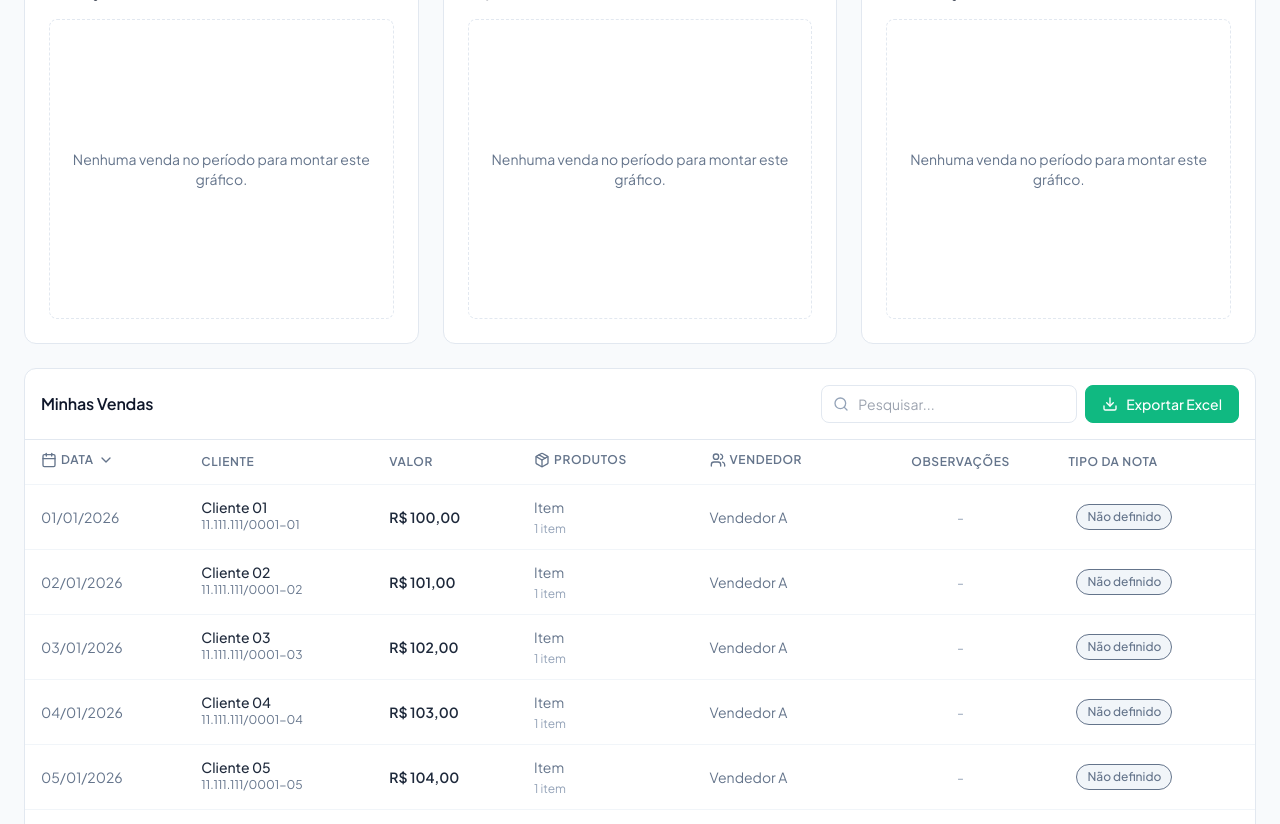
paginacao em Vendedores › com filtro que nao casa nada, a tabela diz que esta vazia
(page scrolled)
Type "zzzzz-nao-existe" into the field with placeholder "Pesquisar...".
click(949, 404); type("zzzzz-nao-existe")  # box [821,385,1077,423]
(page scrolled)
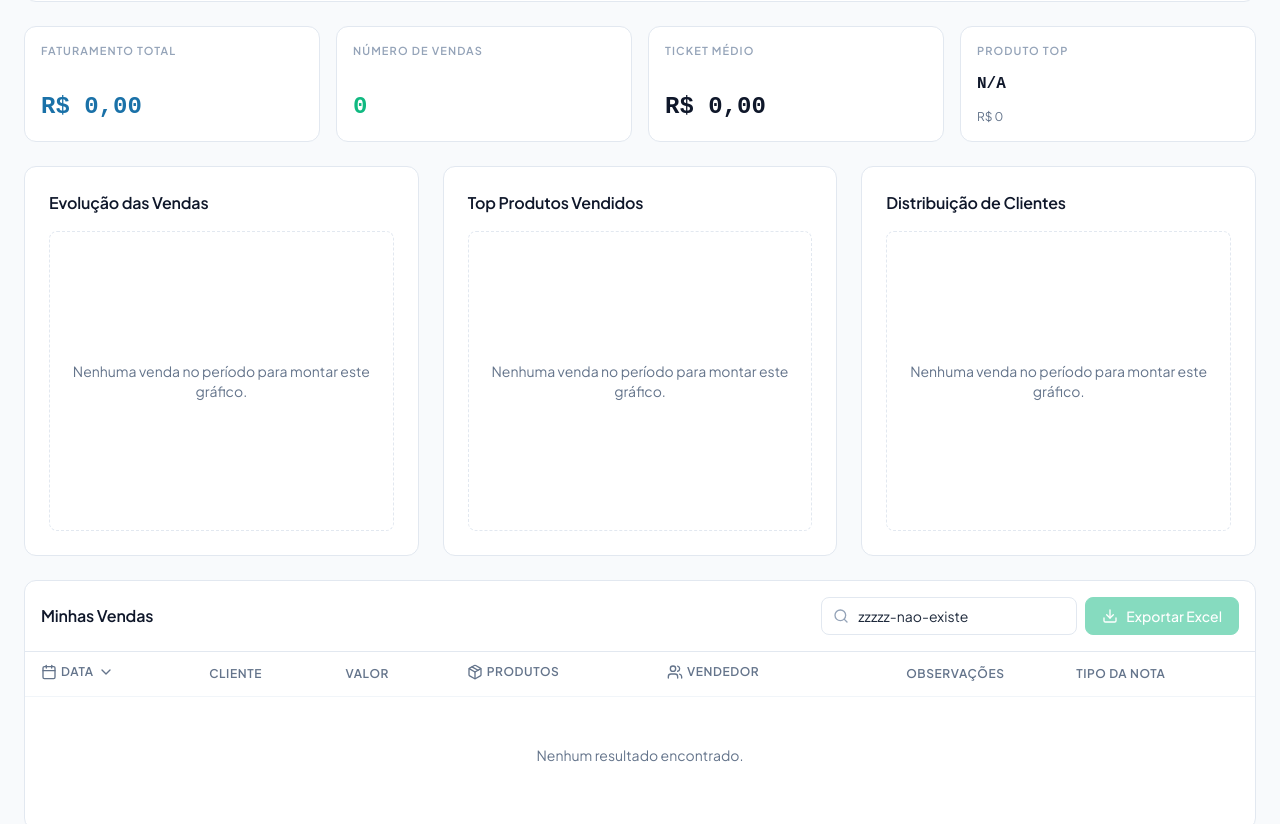
Expected: the text "Nenhum resultado encontrado." is shown, [25,696,1255,813]
